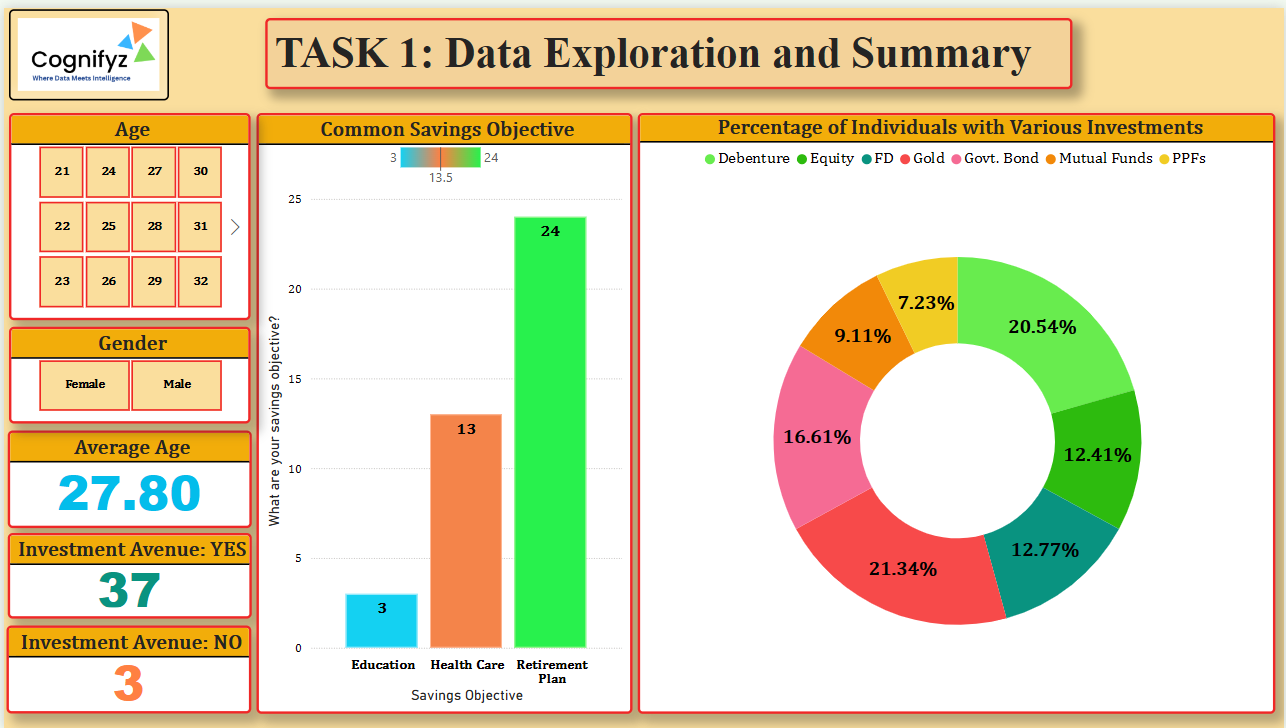

The dashboard page shown, as its layout file describes it:
{"tool":"powerbi","page":{"name":"Task 1","canvas":[1280,720],"ordinal":1},"visuals":[{"type":"image","box":[5,1.2,160,91],"z":0},{"type":"textbox","box":[261.8,9.7,807.1,71.2],"z":1000},{"type":"card","title":"Average Age","fields":{"Values":["Avg(Data_set 2.age)"]},"box":[3.3,421.9,243.8,98],"z":2000},{"type":"card","title":"Investment Avenue: YES","fields":{"Values":["CountNonNull(Data_set 2.Investment_Avenues)"]},"box":[3.3,525.4,243.8,85.7],"z":3000},{"type":"card","title":"Investment Avenue: NO","fields":{"Values":["CountNonNull(Data_set 2.Investment_Avenues)"]},"box":[2.2,617.8,244.9,87.9],"z":4000},{"type":"columnChart","title":"Common Savings Objective","fields":{"Y":["CountNonNull(Data_set 2.What are your savings objectives?)"],"Category":["Data_set 2.What are your savings objectives?"]},"box":[252.7,104.6,376.3,601.1],"z":5000},{"type":"donutChart","title":"Percentage of Individuals with Various Investments","fields":{"Y":["Data_set 2.Debenture","Data_set 2.Equity Market","Data_set 2.Fixed Deposits","Data_set 2.Gold","Data_set 2.Government Bond","Data_set 2.Mutual Funds","Data_set 2.PPFs"]},"box":[633.4,104.6,637.9,601.1],"z":6000},{"type":"slicer","title":"Age","fields":{"Values":["Data_set 2.age"]},"box":[5.6,104.6,241.6,207.1],"z":7000},{"type":"slicer","title":"Gender ","fields":{"Values":["Data_set 2.gender"]},"box":[5.6,318.4,241.6,96.8],"z":8000}]}

Visuals, with their boxes in screenshot pixels (x1, y1, x2, y2), scaled from the page's 1280x720 canvas onto the 1286x728 screenshot:
image: 5,1,166,93
textbox: 263,10,1074,82
"Average Age" card: 3,427,248,526
"Investment Avenue: YES" card: 3,531,248,618
"Investment Avenue: NO" card: 2,625,248,714
"Common Savings Objective" columnChart: 254,106,632,714
"Percentage of Individuals with Various Investments" donutChart: 636,106,1277,714
"Age" slicer: 6,106,248,315
"Gender " slicer: 6,322,248,420
